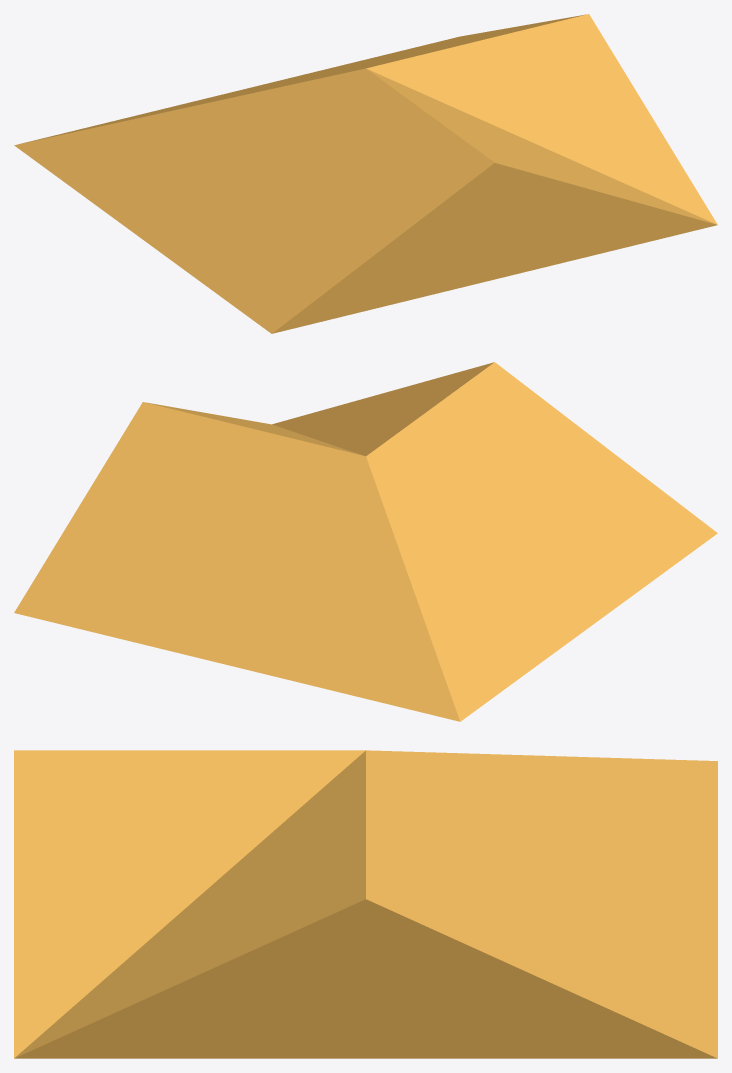
The model's file is Roof-Shallow-4x4x1-Gable-Corner.FBX.
3 views of the same model, one above another, from view 1: azimuth 30°, elevation 25°; view 2: azimuth 150°, elevation 25°; view 3: azimuth 270°, elevation 25° (orthographic). The views are drawn at different scales.
Parts seen in each view (by area): view 1: Roof-Shallow-4x4x1-Gable-Corner; view 2: Roof-Shallow-4x4x1-Gable-Corner; view 3: Roof-Shallow-4x4x1-Gable-Corner.
Part boxes in pixels (x1,y1,x2,y2): Roof-Shallow-4x4x1-Gable-Corner: (14,14,717,333); Roof-Shallow-4x4x1-Gable-Corner: (14,362,717,721); Roof-Shallow-4x4x1-Gable-Corner: (14,750,717,1058).
Bounding box in the file's own units: 40 × 40 × 10.
